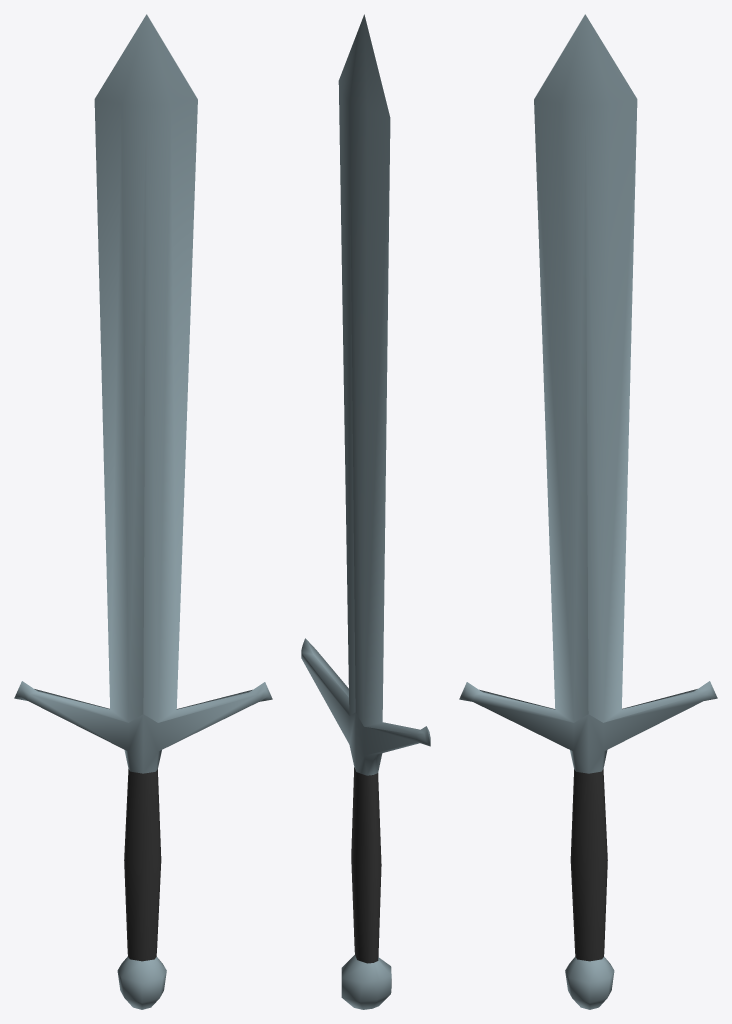
File: runite_2hd.glb
The picture shows the model from 3 angles, left to right: view 1: azimuth 90°, elevation 25°; view 2: azimuth 210°, elevation 25°; view 3: azimuth 270°, elevation 25°; orthographic projection.
Visible parts, largest first — view 1: steel2hd sword; view 2: steel2hd sword; view 3: steel2hd sword.
Boxes of the visible parts, x1=… form: steel2hd sword: x1=14, y1=14, x2=272, y2=1009; steel2hd sword: x1=301, y1=14, x2=430, y2=1009; steel2hd sword: x1=459, y1=14, x2=717, y2=1009.
Bounding box in the file's own units: 0.0473 × 0.8927 × 0.2115.
